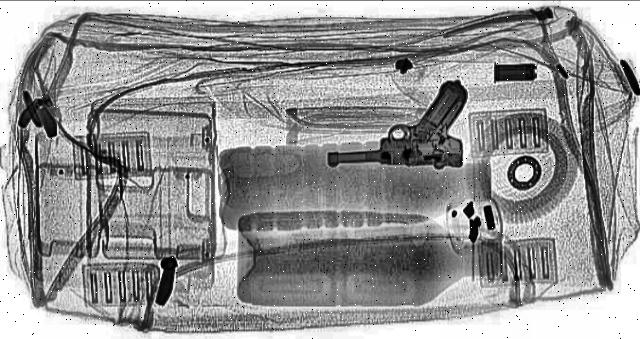Gun: (318, 82, 474, 170)
